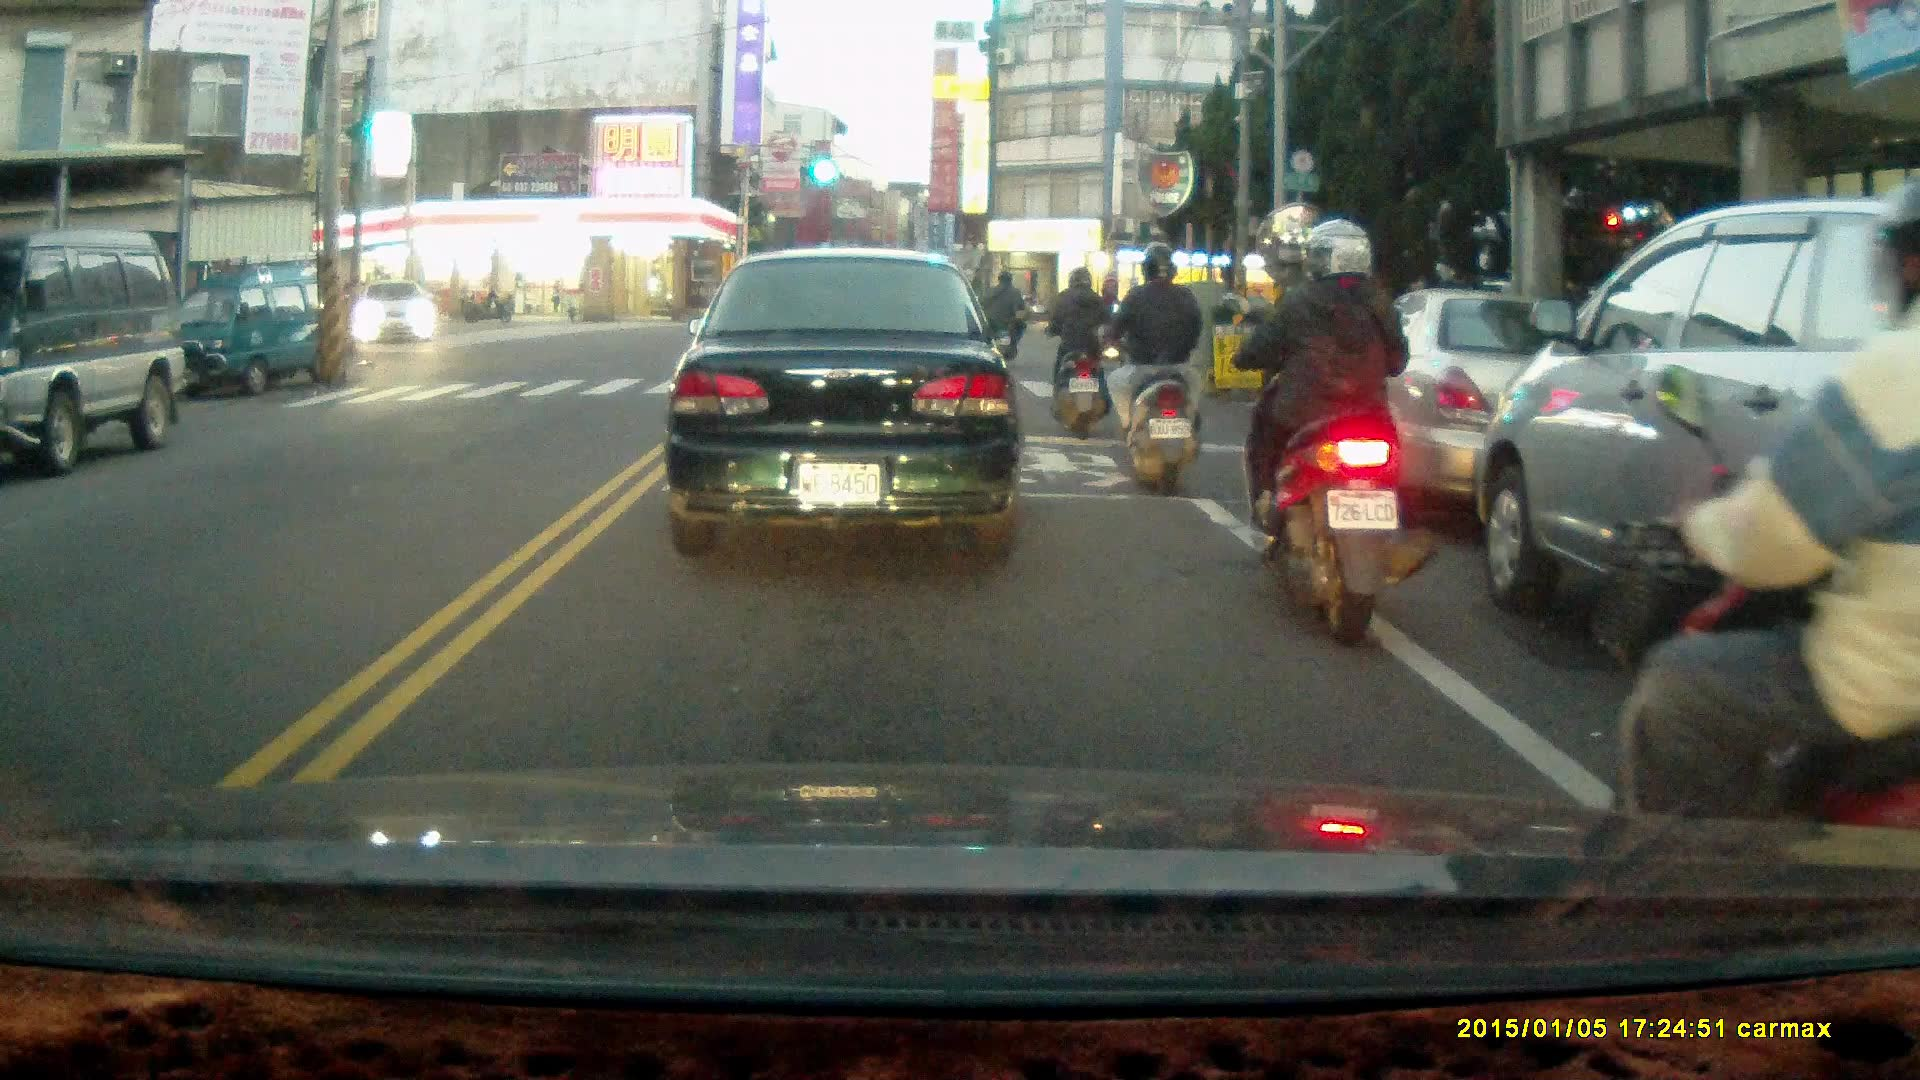rider: (1592, 179, 1920, 860), (1228, 215, 1437, 652), (1084, 246, 1204, 497), (1035, 264, 1112, 436), (983, 270, 1027, 367)
vehicle: (1472, 195, 1920, 798), (666, 248, 1025, 558), (1304, 288, 1664, 520), (1, 234, 178, 467), (159, 263, 349, 403), (357, 281, 441, 349)
